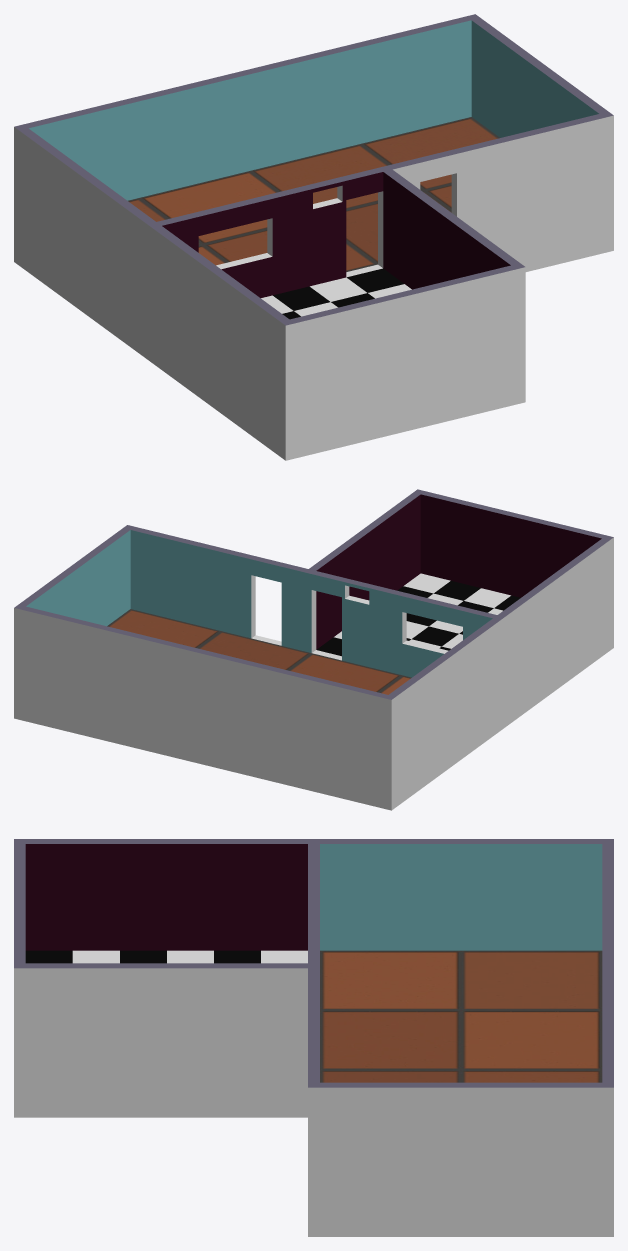
Rendered from Map.fbx.
The picture shows the model from 3 angles, top to bottom: view 1: azimuth 30°, elevation 25°; view 2: azimuth 150°, elevation 25°; view 3: azimuth 270°, elevation 25°; orthographic projection. The views are drawn at different scales.
Parts seen in each view (by area): view 1: Cube; view 2: Cube; view 3: Cube.
Boxes of the visible parts, box(x1,y1,x2,y2) form: Cube: box(14, 14, 613, 460); Cube: box(14, 489, 613, 810); Cube: box(14, 839, 613, 1236).
Bounding box in the file's own units: 1250 × 350 × 1275.
Materials: 6 (1 with a texture image).
